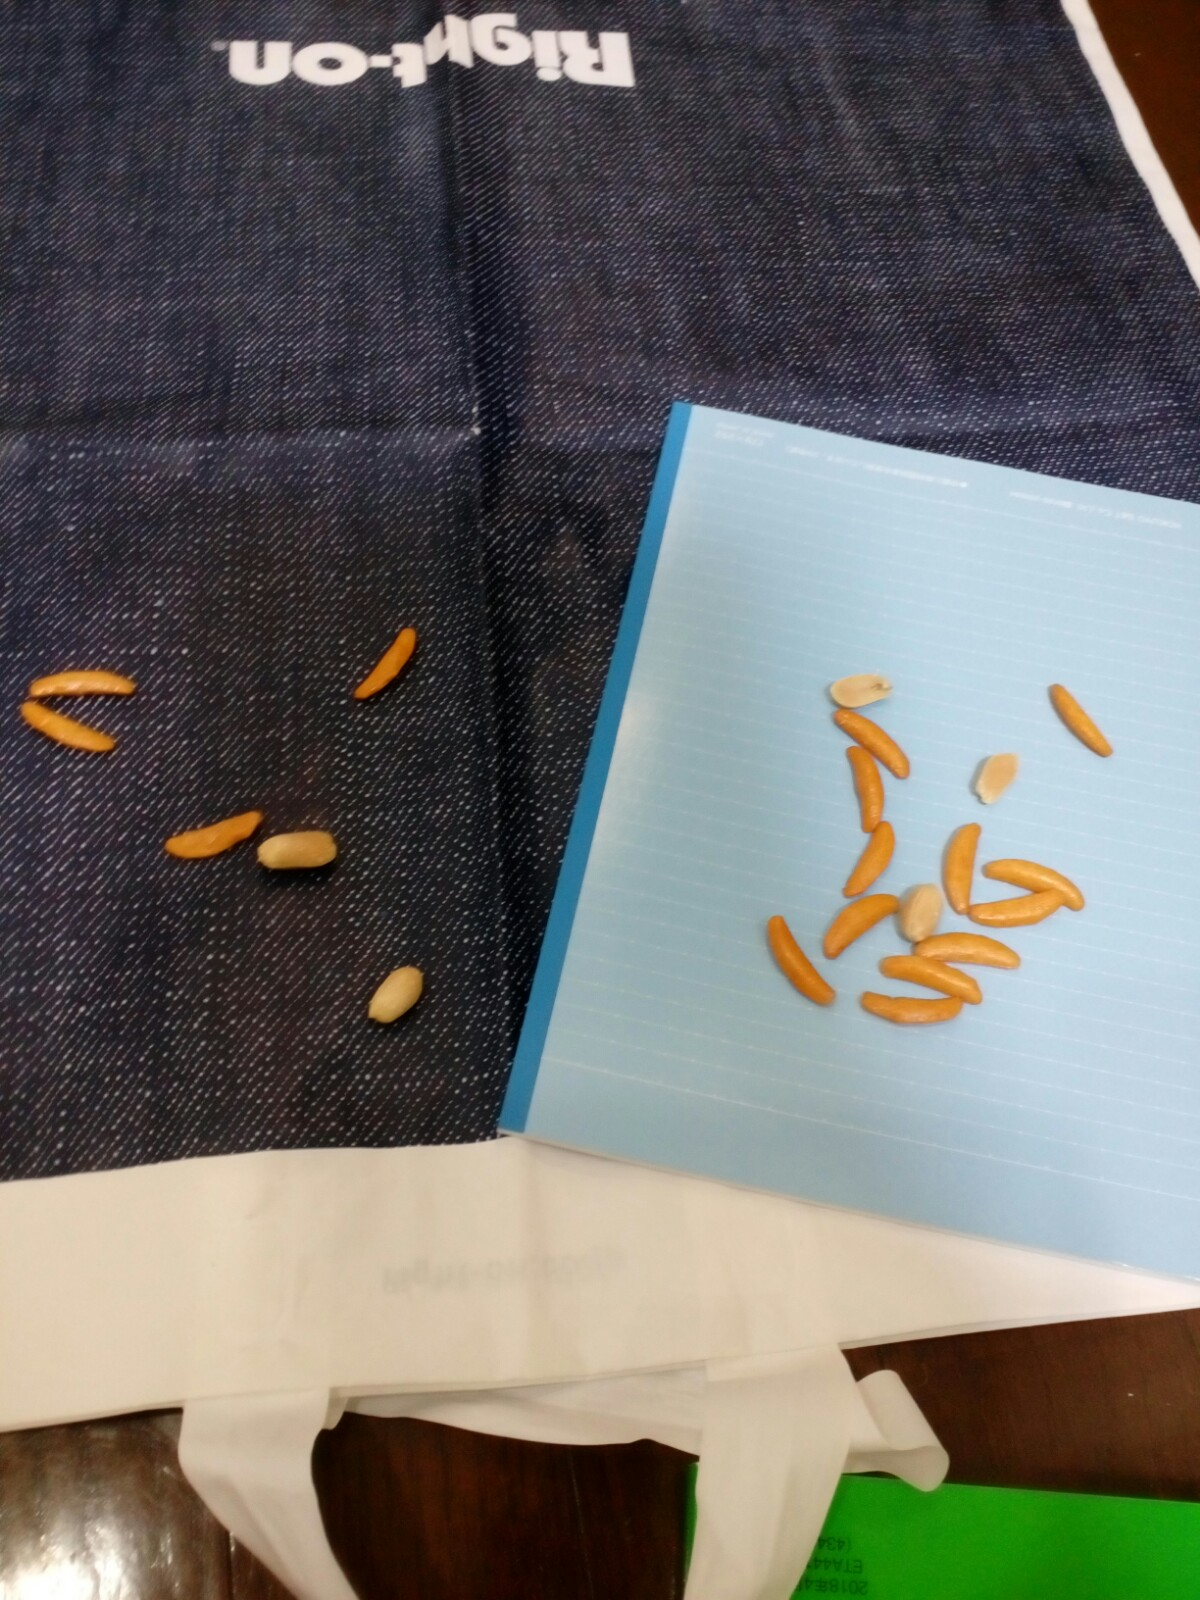peanut: (343, 955, 442, 1029), (256, 823, 348, 871), (894, 878, 948, 946), (971, 748, 1026, 804), (831, 666, 901, 706)
